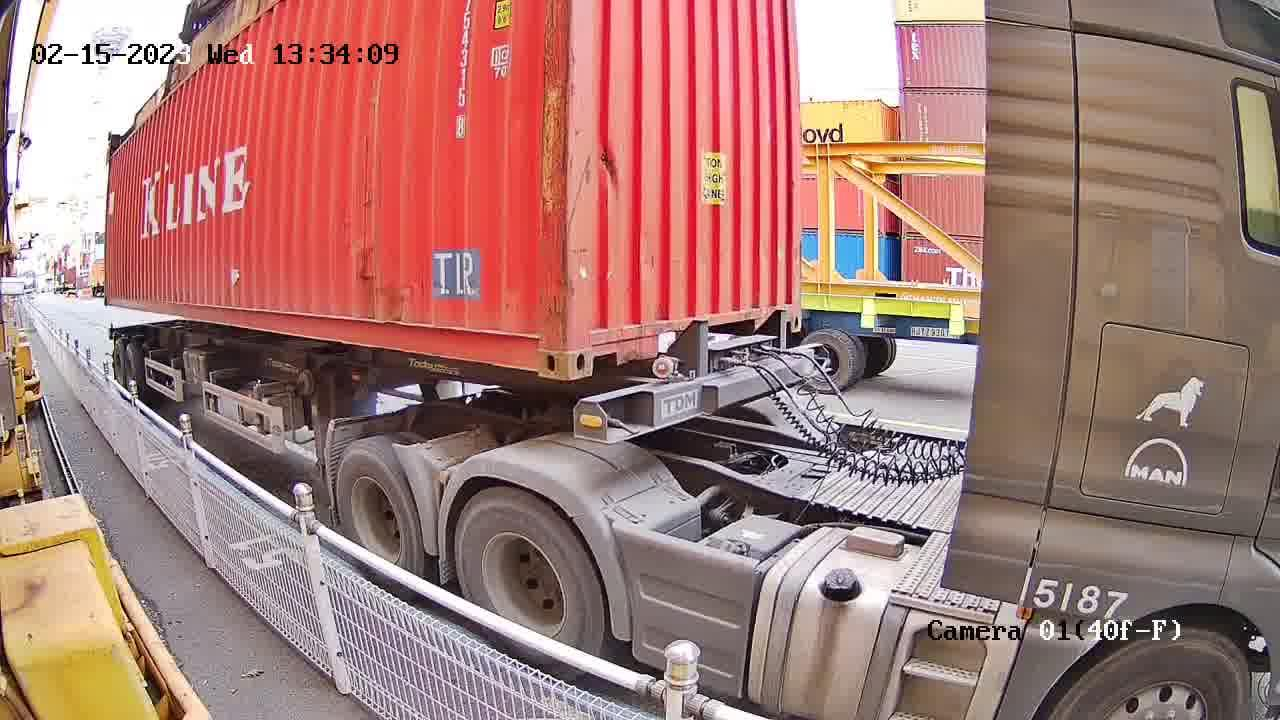Chassis: (574, 343, 831, 441)
Hole_L: (565, 310, 620, 383)
Hole_R: (511, 307, 566, 380), (776, 292, 804, 333)
Tire: (450, 488, 605, 652), (336, 445, 423, 566)
